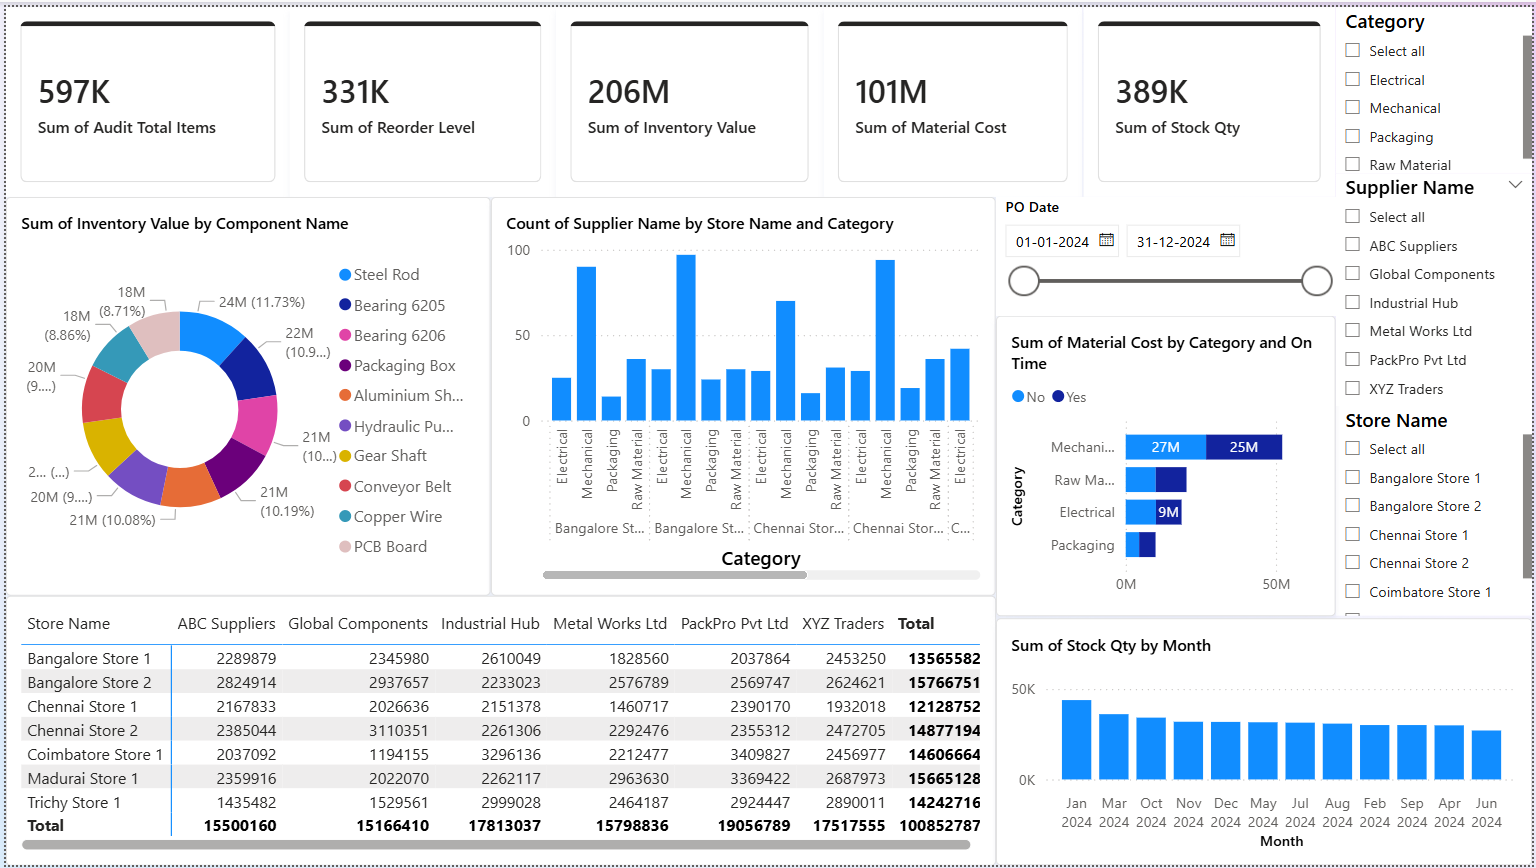

Layout of this report page (visuals, bound fields, positions):
{"tool":"powerbi","page":{"name":"Page 1","canvas":[1280,720],"ordinal":0},"visuals":[{"type":"cardVisual","fields":{"Data":["Sum(Sheet1.Audit Total Items)"]},"box":[0,0,238.4,159.3],"z":0},{"type":"cardVisual","fields":{"Data":["Sum(Sheet1.Reorder Level)"]},"box":[238.4,0,223.3,159.3],"z":1000},{"type":"cardVisual","fields":{"Data":["Sum(Sheet1.Inventory Value)"]},"box":[461.6,0,224.4,159.3],"z":2000},{"type":"cardVisual","fields":{"Data":["Sum(Sheet1.Material Cost)"]},"box":[686,0,217.4,159.3],"z":3000},{"type":"cardVisual","fields":{"Data":["Sum(Sheet1.Stock Qty)"]},"box":[903.5,0,211.6,159.3],"z":4000},{"type":"slicer","fields":{"Values":["Sheet1.Store Name"]},"box":[1115.4,334.4,164.6,176.1],"z":5000},{"type":"donutChart","fields":{"Category":["Sheet1.Component Name"],"Y":["Sum(Sheet1.Inventory Value)"]},"box":[0,159.3,406.8,334.4],"z":6000},{"type":"lineStackedColumnComboChart","fields":{"Category":["Sheet1.Store Name","Sheet1.Category"],"Y":["CountNonNull(Sheet1.Supplier Name)"]},"box":[406.8,159.3,423.5,334.4],"z":7000},{"type":"pivotTable","fields":{"Rows":["Sheet1.Store Name"],"Columns":["Sheet1.Supplier Name"],"Values":["Sum(Sheet1.Material Cost)"]},"box":[0,493.8,830.3,226.4],"z":8000},{"type":"barChart","fields":{"Series":["Sheet1.On Time"],"Category":["Sheet1.Category"],"Y":["Sum(Sheet1.Material Cost)"]},"box":[830.3,258.9,285.1,251.6],"z":9000},{"type":"slicer","fields":{"Values":["Sheet1.Supplier Name"]},"box":[1115.4,139.4,164.6,195],"z":10000},{"type":"slicer","fields":{"Values":["Sheet1.PO Date"]},"box":[830.3,159.3,285.1,99.6],"z":11000},{"type":"lineStackedColumnComboChart","fields":{"Category":["Sheet1.Month"],"Y":["Sum(Sheet1.Stock Qty)"]},"box":[830.3,512.6,449.7,207.6],"z":12000},{"type":"slicer","fields":{"Values":["Sheet1.Category"]},"box":[1115.4,0,164.6,139.4],"z":13000}]}

Visuals, with their boxes in screenshot pixels (x1, y1, x2, y2), scaled from the page's 1280x720 canvas onto the 1536x868 screenshot:
cardVisual - Sum(Sheet1.Audit Total Items): <bbox>0, 0, 286, 192</bbox>
cardVisual - Sum(Sheet1.Reorder Level): <bbox>286, 0, 554, 192</bbox>
cardVisual - Sum(Sheet1.Inventory Value): <bbox>554, 0, 823, 192</bbox>
cardVisual - Sum(Sheet1.Material Cost): <bbox>823, 0, 1084, 192</bbox>
cardVisual - Sum(Sheet1.Stock Qty): <bbox>1084, 0, 1338, 192</bbox>
slicer - Sheet1.Store Name: <bbox>1338, 403, 1535, 615</bbox>
donutChart - Sheet1.Component Name x Sum(Sheet1.Inventory Value): <bbox>0, 192, 488, 595</bbox>
lineStackedColumnComboChart - Sheet1.Store Name x Sheet1.Category: <bbox>488, 192, 996, 595</bbox>
pivotTable - Sheet1.Store Name x Sheet1.Supplier Name: <bbox>0, 595, 996, 867</bbox>
barChart - Sheet1.On Time x Sheet1.Category: <bbox>996, 312, 1338, 615</bbox>
slicer - Sheet1.Supplier Name: <bbox>1338, 168, 1535, 403</bbox>
slicer - Sheet1.PO Date: <bbox>996, 192, 1338, 312</bbox>
lineStackedColumnComboChart - Sheet1.Month x Sum(Sheet1.Stock Qty): <bbox>996, 618, 1535, 867</bbox>
slicer - Sheet1.Category: <bbox>1338, 0, 1535, 168</bbox>
